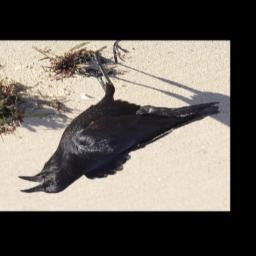Crow: (17, 48, 221, 195)
